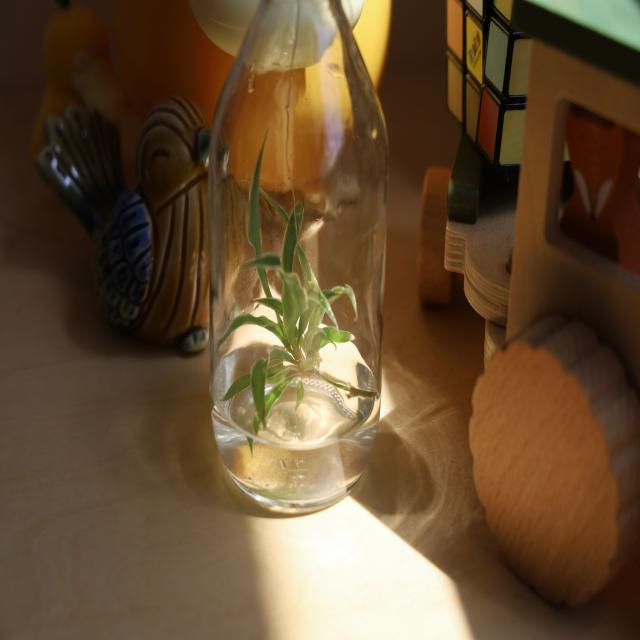Bottle: (210, 0, 387, 511)
